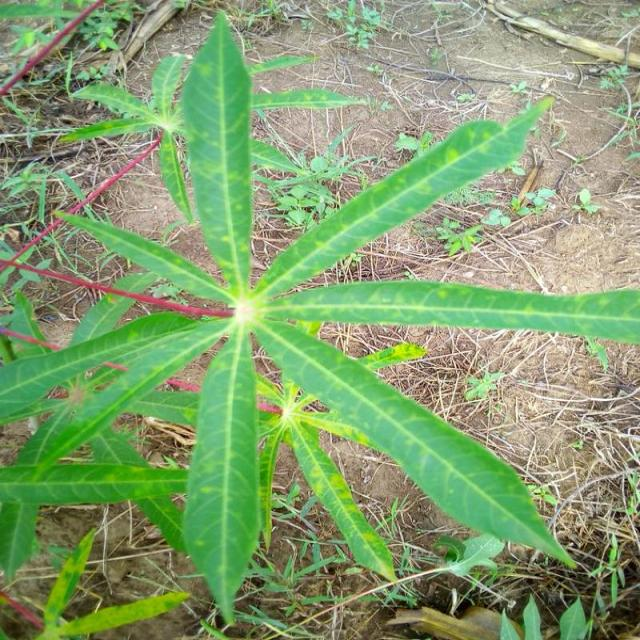cassava leaf: (1, 8, 638, 630), (184, 321, 262, 626), (180, 10, 254, 292)
